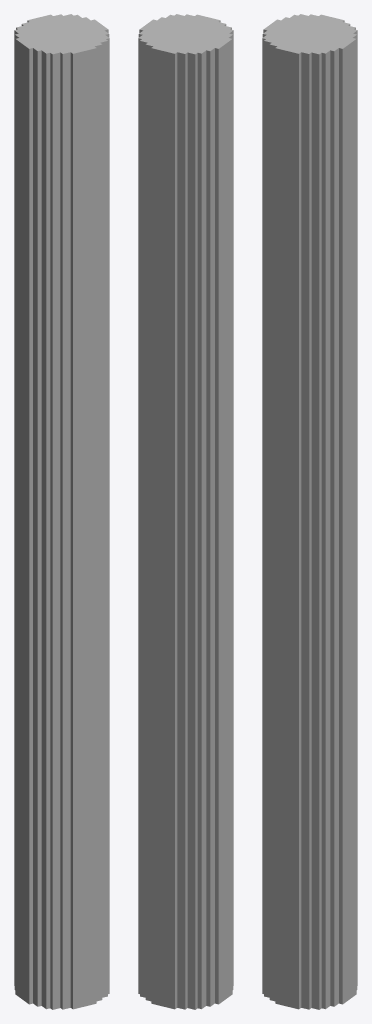
Rendered from flag_full0-1.obj.
3 views of the same model, side by side, from view 1: azimuth 30°, elevation 25°; view 2: azimuth 150°, elevation 25°; view 3: azimuth 330°, elevation 25° (orthographic).
Bounding box in the file's own units: 2 × 23 × 2.
1 material, 1 textured.
